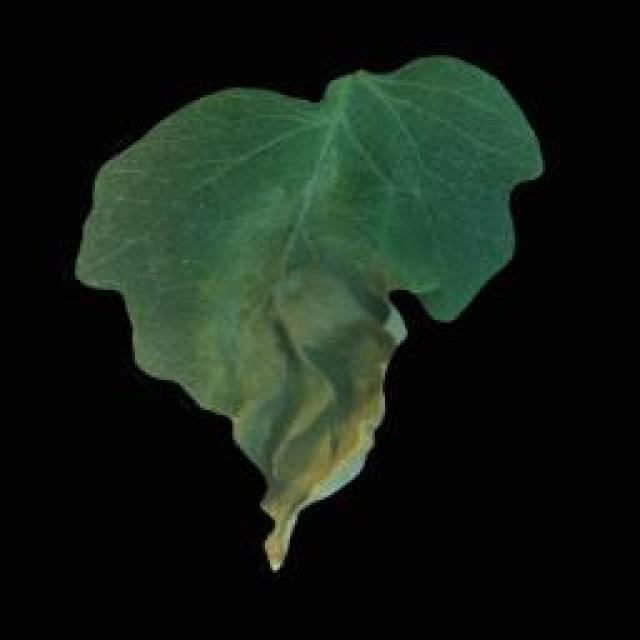Tomato___Late_blight: (77, 54, 545, 575)
